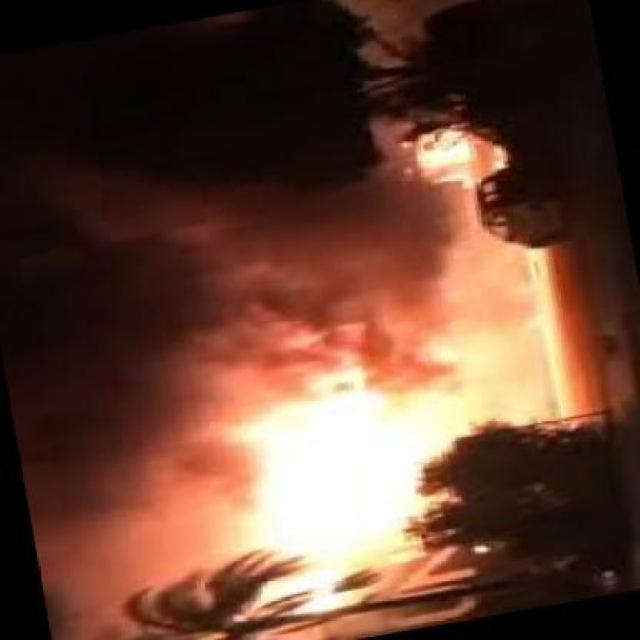Fire: (234, 361, 442, 586), (423, 282, 586, 429)
Smoke: (53, 160, 436, 360), (25, 361, 226, 632)
